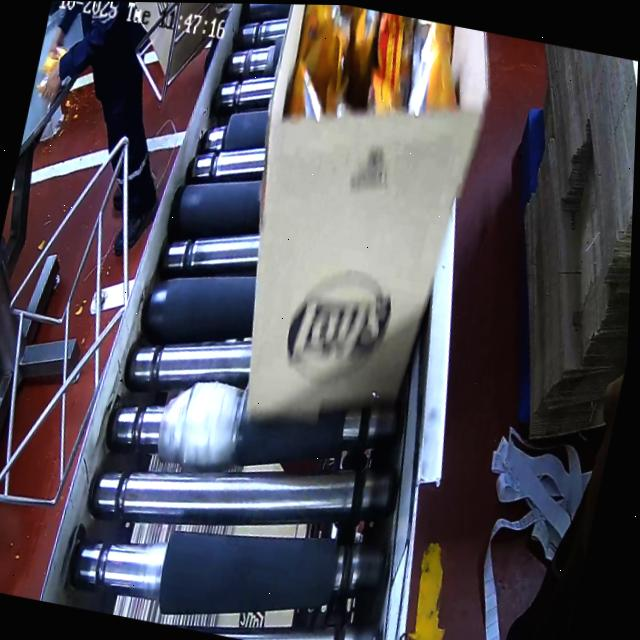FRENCH_CHEESE: (274, 4, 471, 153)
